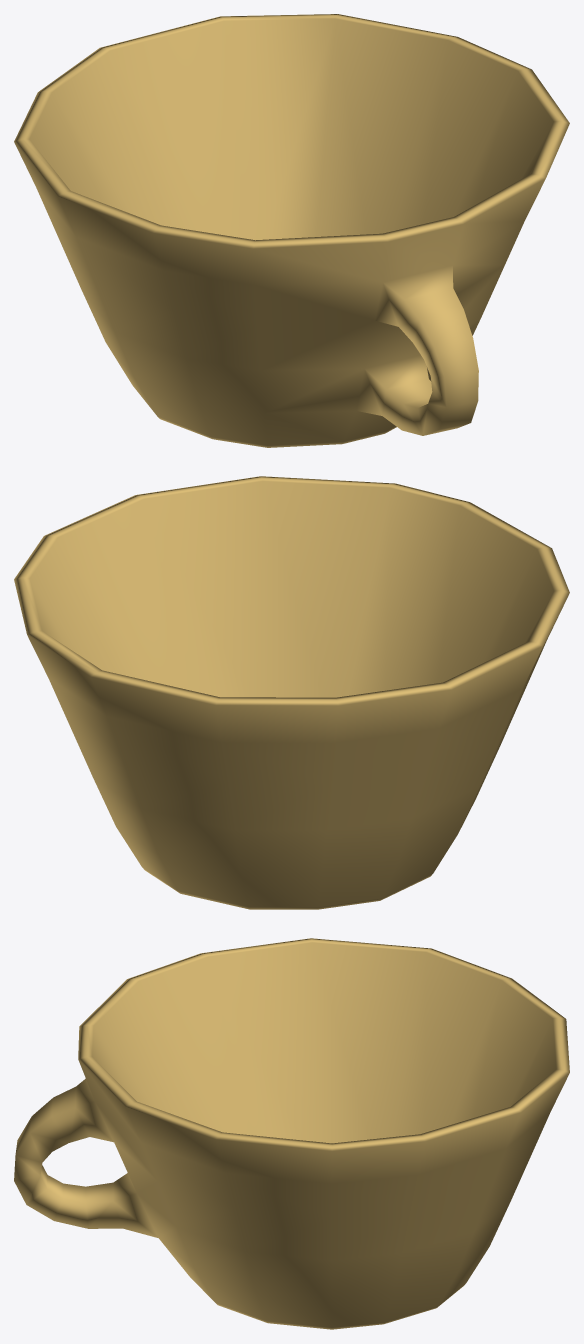
File: teacup.fbx
3 views of the same model, one above another, from view 1: azimuth 30°, elevation 25°; view 2: azimuth 150°, elevation 25°; view 3: azimuth 270°, elevation 25° (orthographic). The views are drawn at different scales.
Parts seen in each view (by area): view 1: geo_teacup; view 2: geo_teacup; view 3: geo_teacup.
Part boxes in pixels (x1,y1,x2,y2): geo_teacup: (14,14,569,447); geo_teacup: (14,476,569,909); geo_teacup: (14,938,569,1329).
Bounding box in the file's own units: 44.06 × 22.14 × 48.6.
